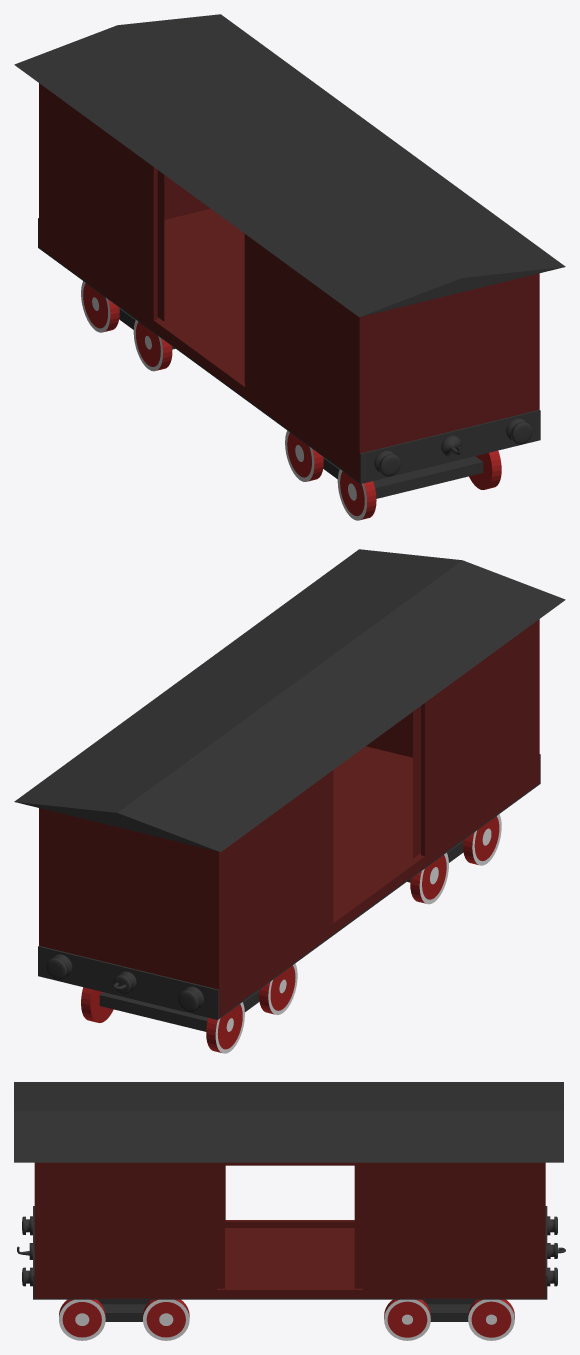
Rendered from Freight Wagon, Open.fbx.
The picture shows the model from 3 angles, top to bottom: view 1: azimuth 30°, elevation 25°; view 2: azimuth 150°, elevation 25°; view 3: azimuth 270°, elevation 25°; orthographic projection. The views are drawn at different scales.
Parts seen in each view (by area): view 1: Freight Wagon Open; view 2: Freight Wagon Open; view 3: Freight Wagon Open.
Boxes of the visible parts, x1=… form: Freight Wagon Open: x1=14, y1=14, x2=565, y2=520; Freight Wagon Open: x1=14, y1=549, x2=565, y2=1053; Freight Wagon Open: x1=14, y1=1082, x2=565, y2=1340.
Size of the model in its own units: 469 by 554 by 1360.
